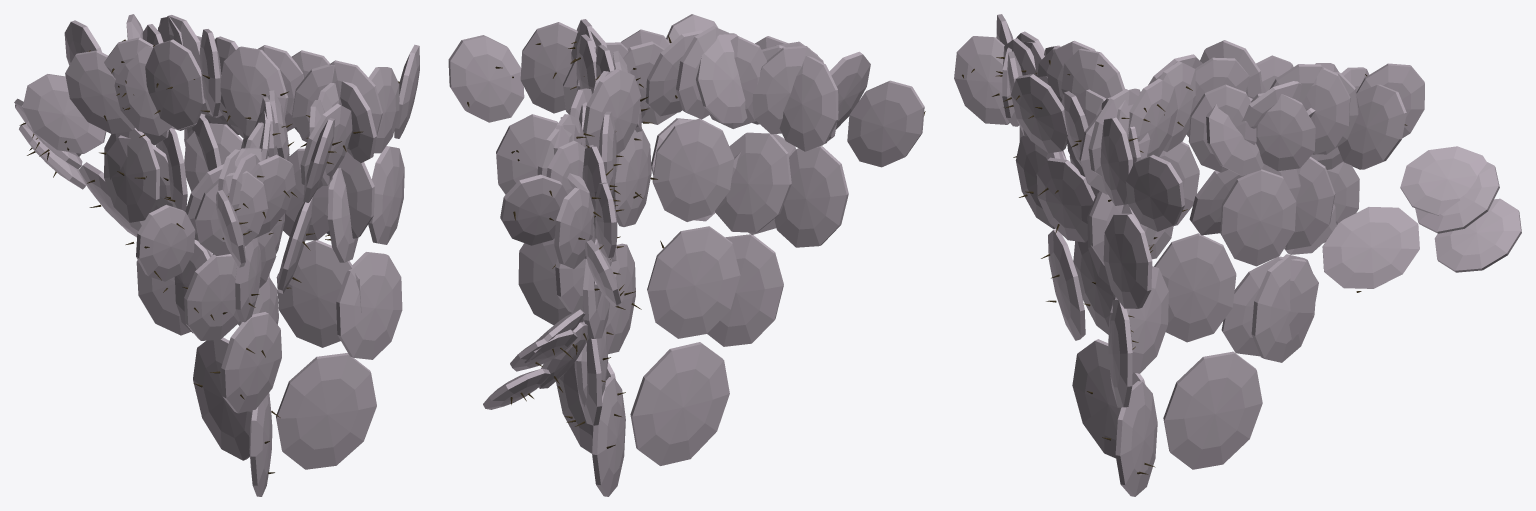
The model's file is prickly_pear_v02.glb.
The picture shows the model from 3 angles, left to right: view 1: azimuth 30°, elevation 25°; view 2: azimuth 150°, elevation 25°; view 3: azimuth 270°, elevation 25°; orthographic projection. The views are drawn at different scales.
Visible parts, largest first — view 1: prickly_pear_v02; view 2: prickly_pear_v02; view 3: prickly_pear_v02.
Part boxes in pixels (box(x1,y1,x2,y2)): prickly_pear_v02: box(14, 14, 419, 496); prickly_pear_v02: box(448, 14, 925, 496); prickly_pear_v02: box(954, 14, 1521, 496).
Size of the model in its own units: 0.6226 by 0.6729 by 0.827.
Materials: 2 (1 with a texture image).
